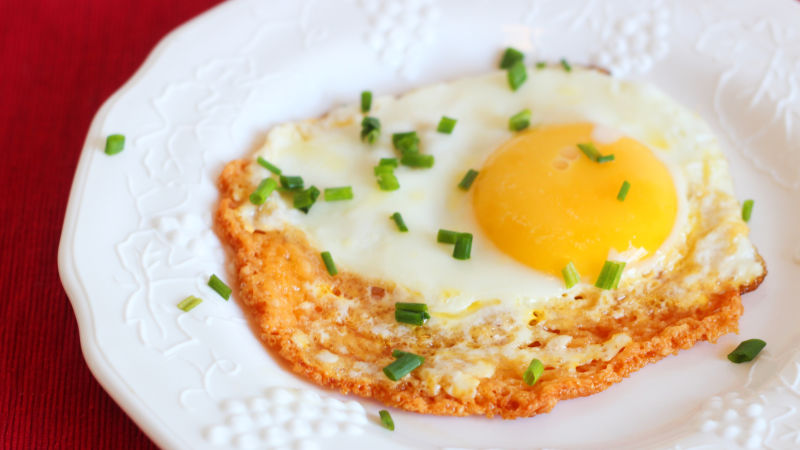fried egg: (260, 99, 756, 323)
